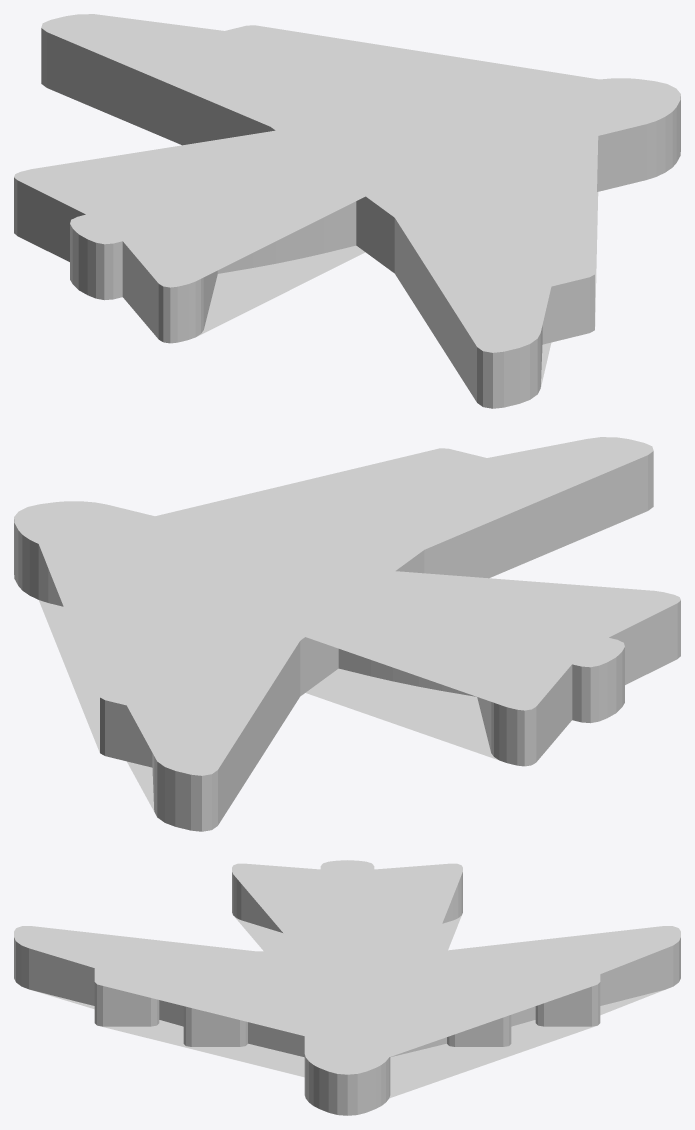
Rendered from Airplane_3D.fbx.
3 views of the same model, one above another, from view 1: azimuth 30°, elevation 25°; view 2: azimuth 150°, elevation 25°; view 3: azimuth 270°, elevation 25° (orthographic). The views are drawn at different scales.
Parts seen in each view (by area): view 1: Airplane_3D; view 2: Airplane_3D; view 3: Airplane_3D.
Boxes of the visible parts, x1=… form: Airplane_3D: x1=14, y1=14, x2=680, y2=408; Airplane_3D: x1=14, y1=437, x2=680, y2=831; Airplane_3D: x1=14, y1=860, x2=680, y2=1115.
Bounding box in the file's own units: 112 × 10 × 147.
